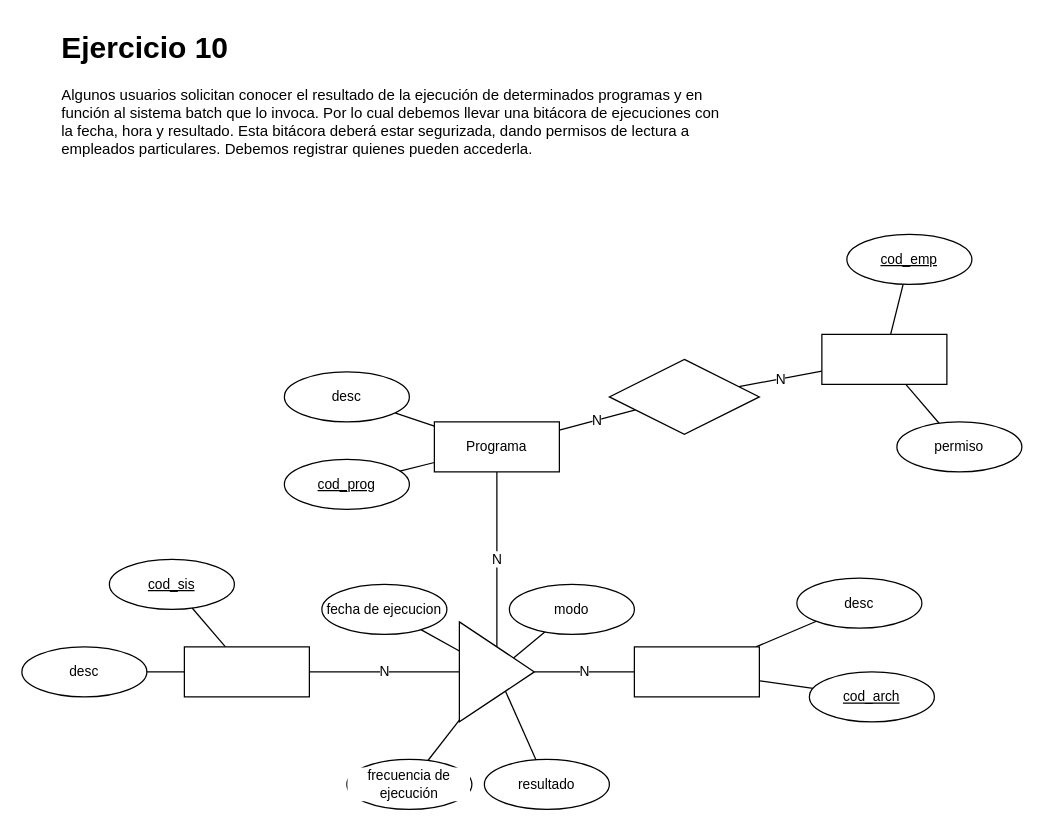
This 1044x831 diagram has some shape labels left out. The shapes that lost their labels are listed below. From the top down, each one's centre as x and y in pixels, then its label:
At (x=884, y=358): "Empleado".
At (x=683, y=396): "accede".
At (x=246, y=671): "Sistema".
At (x=496, y=671): "Batch".
At (x=696, y=671): "Archivo".
